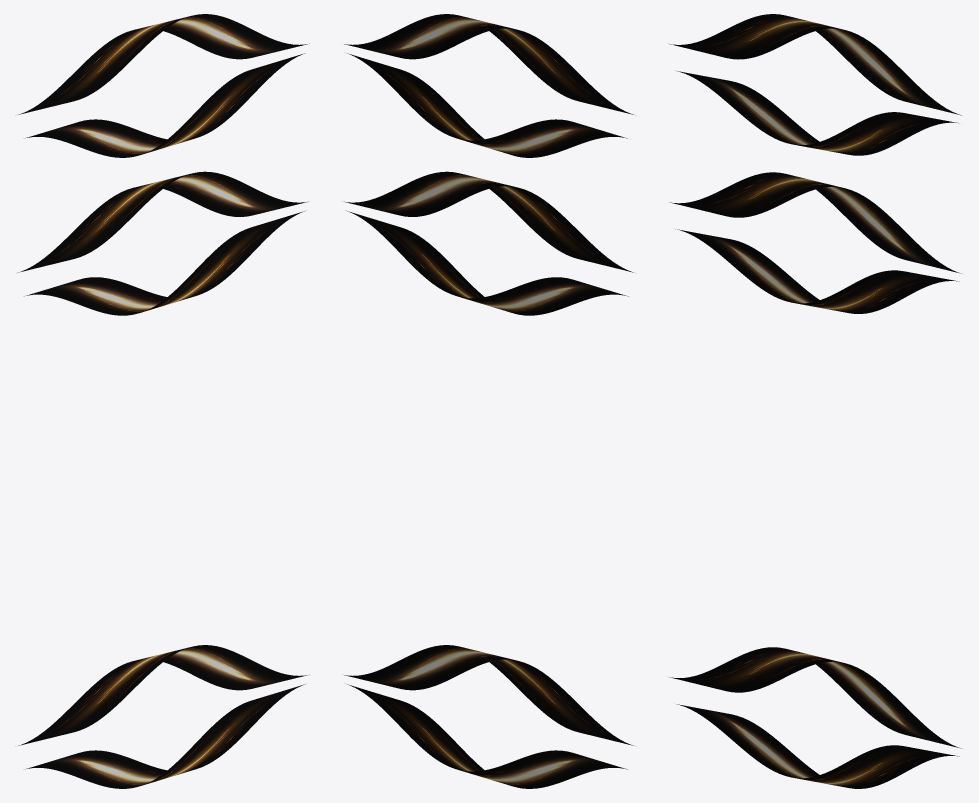
File: MainTopDlg_PC.fbx
3 views of the same model, side by side, from view 1: azimuth 30°, elevation 25°; view 2: azimuth 150°, elevation 25°; view 3: azimuth 330°, elevation 25° (orthographic).
Parts seen in each view (by area): view 1: FX_Helix02 (×3), FX_Helix01 (×3); view 2: FX_Helix02 (×3), FX_Helix01 (×3); view 3: FX_Helix02 (×3), FX_Helix01 (×3).
Boxes of the visible parts, box(x1,y1,x2,y2) form: FX_Helix02 (×3): box(17, 14, 309, 745); FX_Helix01 (×3): box(24, 53, 305, 788); FX_Helix02 (×3): box(344, 14, 633, 745); FX_Helix01 (×3): box(346, 53, 628, 788); FX_Helix02 (×3): box(668, 14, 961, 748); FX_Helix01 (×3): box(675, 70, 959, 788).
Bounding box in the file's own units: 229 × 557 × 0.3441.
1 material, 1 textured.
